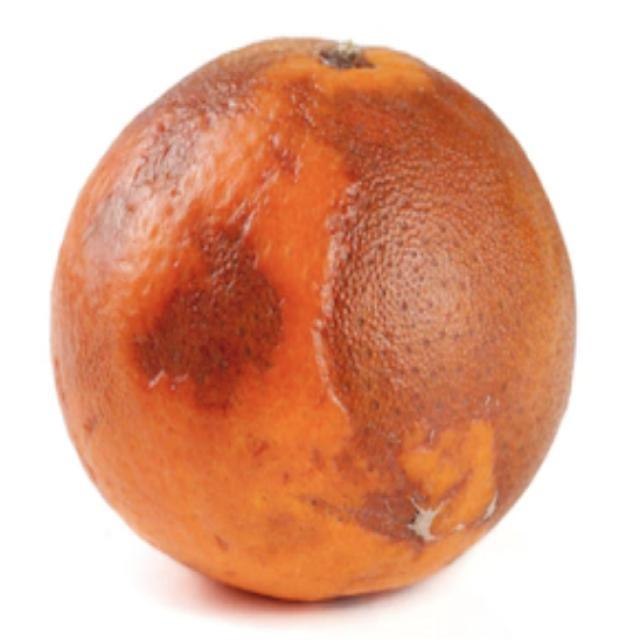sangat-busuk: (325, 95, 574, 507), (89, 39, 342, 260), (138, 231, 281, 402)
